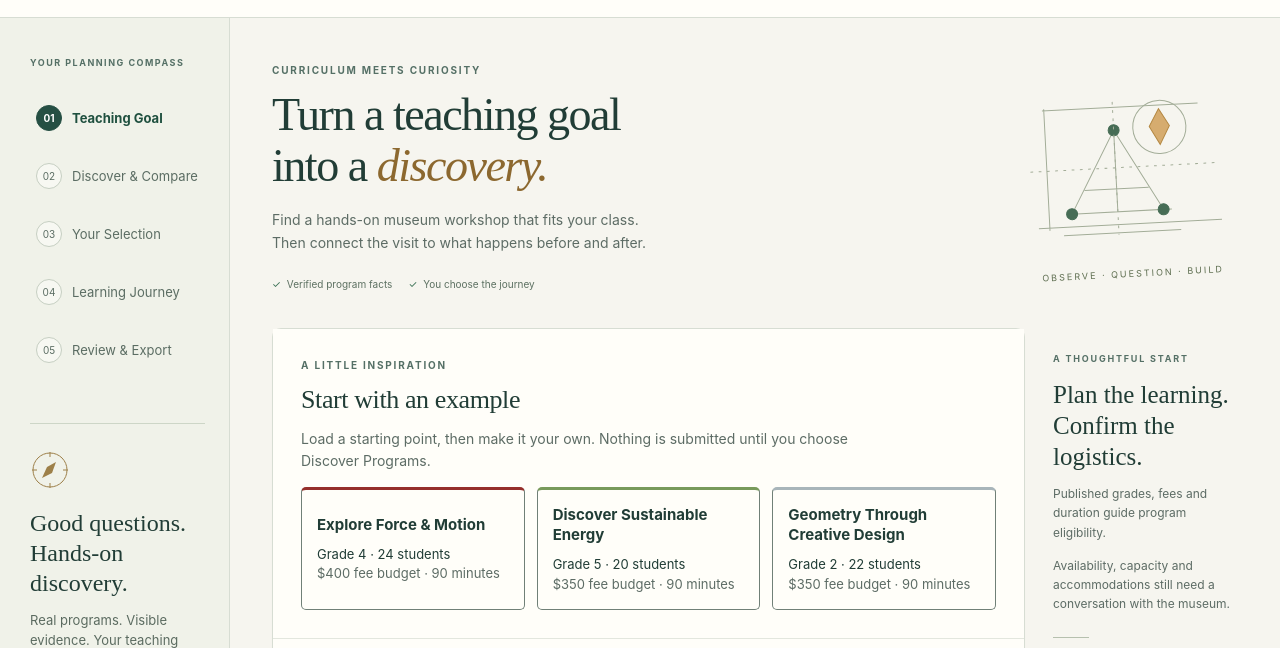
Test: allows optional preset limits to be cleared without silently reinstating them
Click the button with aria-label "Load Explore Force & Motion example".
click(413, 548)  # box [301,487,525,610]
(page scrolled)
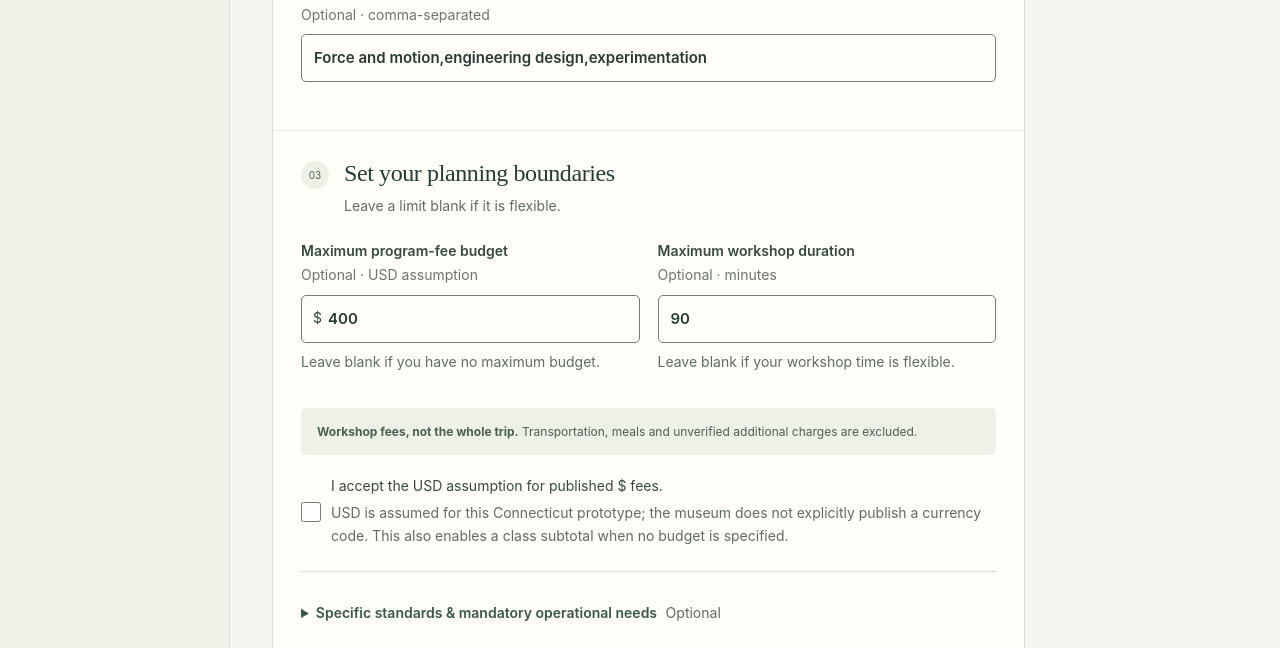
Clear the number field labelled "Maximum program-fee budget" at coordinates (470, 319), box [301,295,640,343]
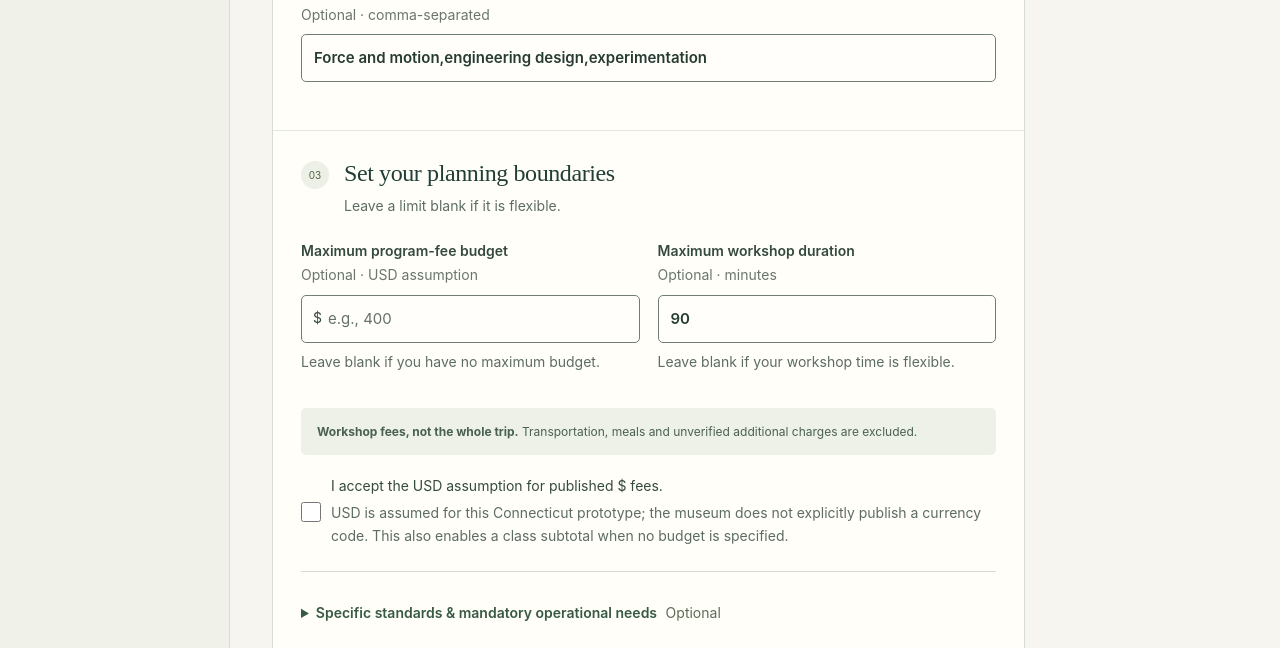
Clear the number field labelled "Maximum workshop duration" at coordinates (827, 319), box [658,295,996,343]
(page scrolled)
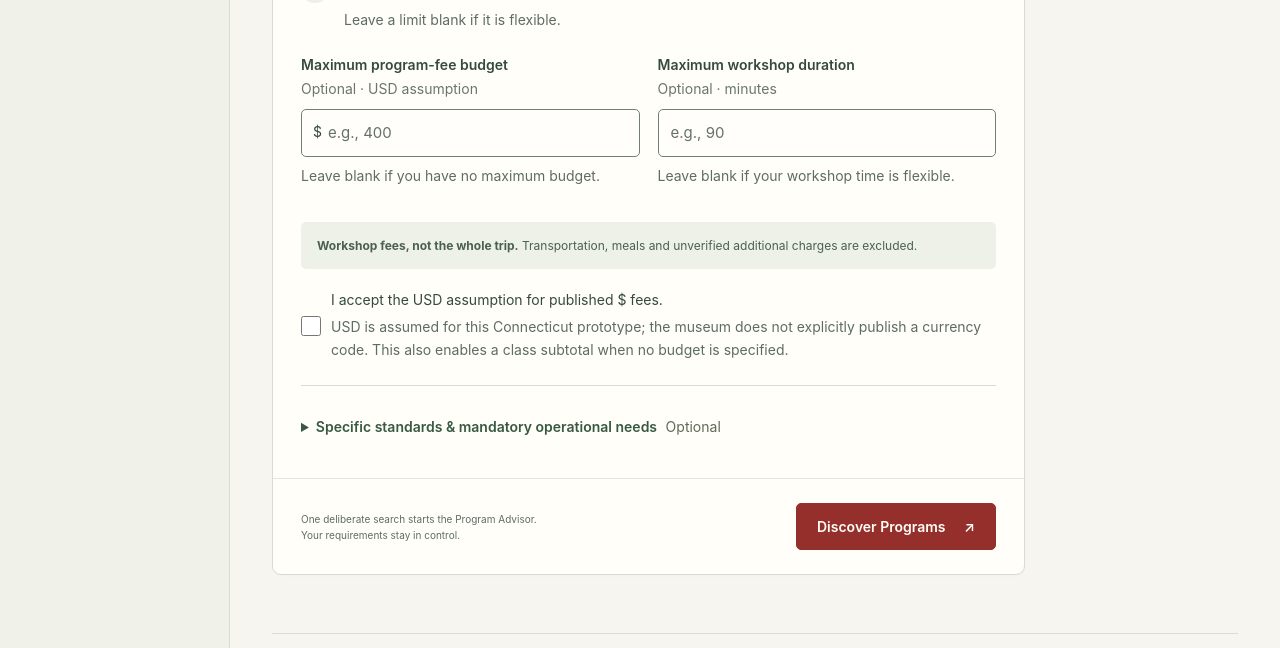
Click the button "Discover Programs ↗".
click(896, 526)  # box [796,503,996,550]
(page scrolled)
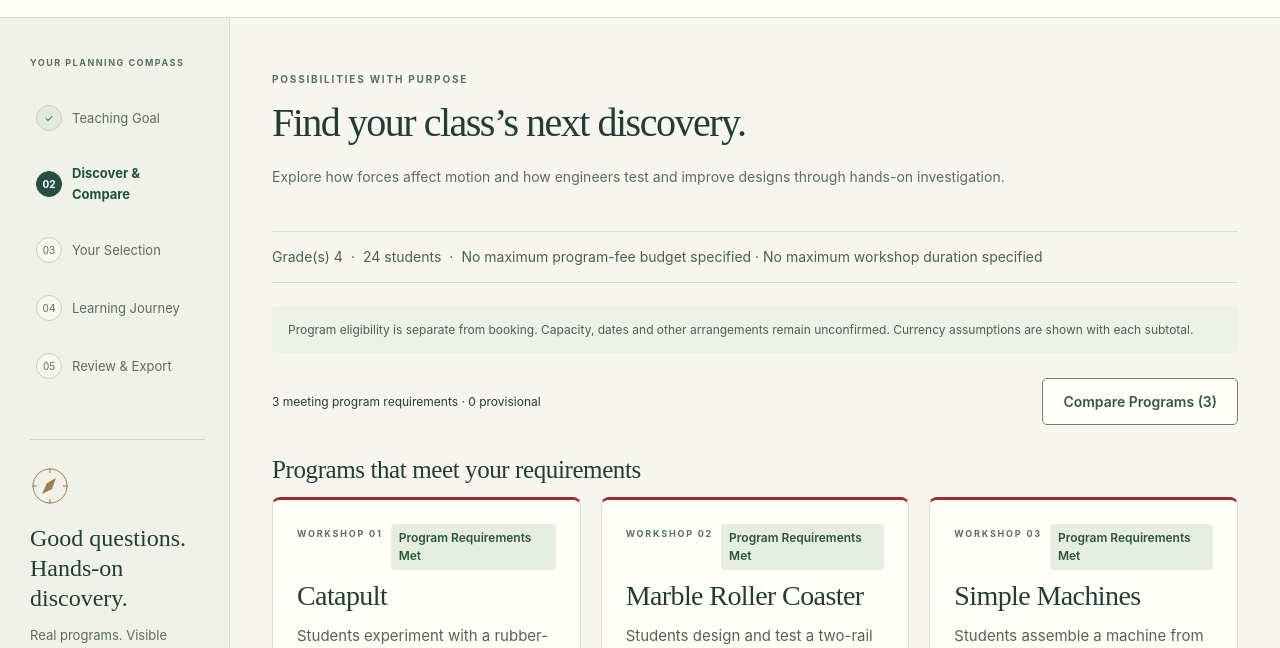
Expected: the heading "Find your class’s next discovery." is shown, [272,100,745,145]
